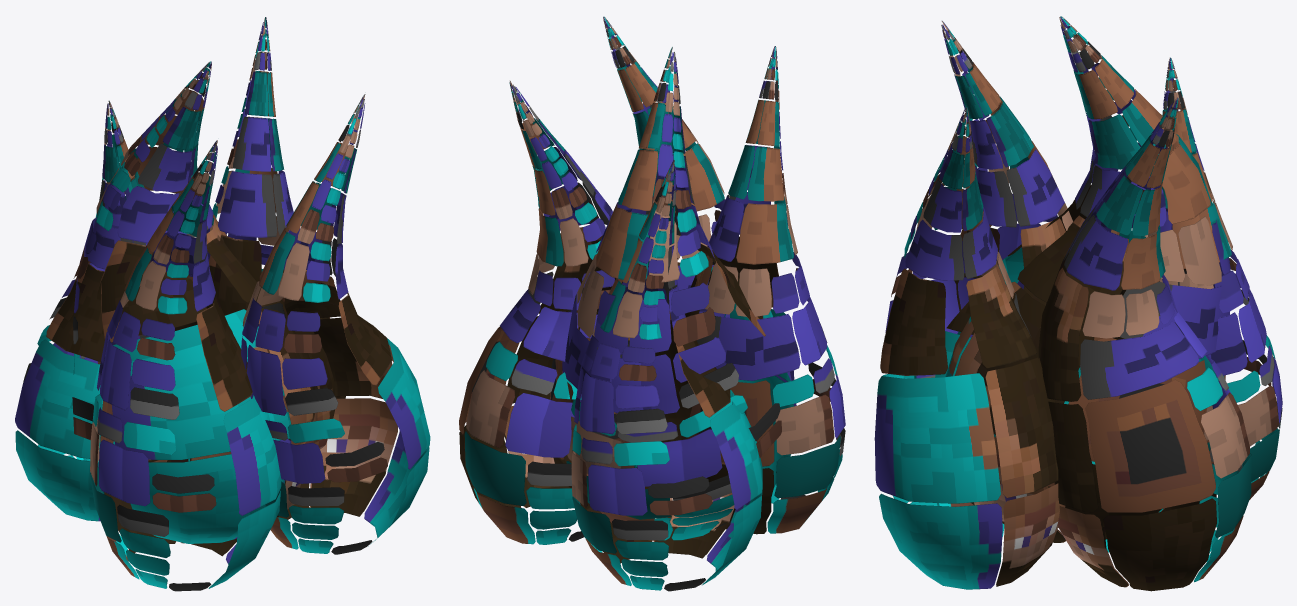
The picture shows the model from 3 angles, left to right: view 1: azimuth 30°, elevation 25°; view 2: azimuth 150°, elevation 25°; view 3: azimuth 270°, elevation 25°; orthographic projection. The views are drawn at different scales.
Parts seen in each view (by area): view 1: flame_NurbsPath.015; view 2: flame_NurbsPath.015; view 3: flame_NurbsPath.015.
Part boxes in pixels (x1,y1,x2,y2): flame_NurbsPath.015: (15, 17, 430, 591); flame_NurbsPath.015: (459, 16, 845, 591); flame_NurbsPath.015: (874, 16, 1282, 591).
Size of the model in its own units: 0.7541 by 1.15 by 0.8055.
